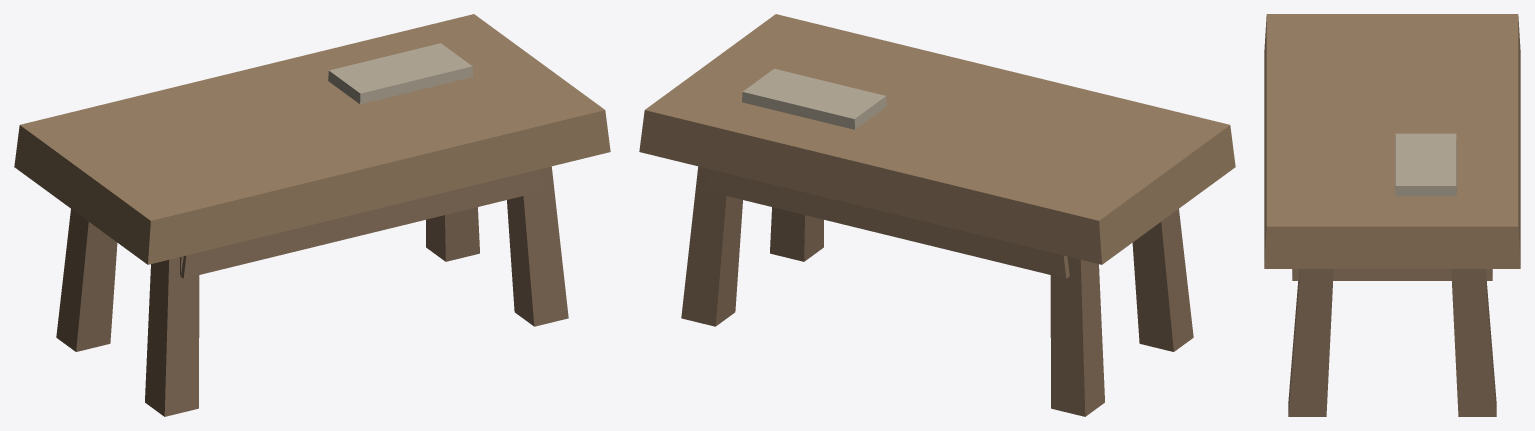
The model's file is desk_writing.glb.
The picture shows the model from 3 angles, left to right: view 1: azimuth 30°, elevation 25°; view 2: azimuth 150°, elevation 25°; view 3: azimuth 270°, elevation 25°; orthographic projection. The views are drawn at different scales.
Visible parts, largest first — view 1: part_4, part_5, part_1, part_3, part_0, part_7, part_2; view 2: part_4, part_5, part_0, part_2, part_1, part_7, part_3; view 3: part_4, part_2, part_3, part_7, part_5.
Boxes of the visible parts, box(x1,y1,x2,y2) form: part_4: box(14, 14, 610, 264); part_5: box(181, 169, 545, 278); part_1: box(145, 257, 199, 416); part_3: box(507, 166, 568, 326); part_0: box(56, 209, 117, 351); part_7: box(328, 43, 473, 104); part_2: box(426, 207, 479, 261); part_4: box(639, 14, 1235, 264); part_5: box(704, 169, 1069, 278); part_0: box(1050, 256, 1104, 416); part_2: box(681, 166, 742, 326); part_1: box(1132, 209, 1193, 351); part_7: box(742, 68, 886, 129); part_3: box(770, 207, 823, 261); part_4: box(1264, 14, 1520, 268); part_2: box(1451, 269, 1496, 416); part_3: box(1288, 269, 1333, 416); part_7: box(1395, 133, 1456, 196); part_5: box(1292, 269, 1492, 280).
Size of the model in its own units: 1.84 by 0.84 by 0.92.
